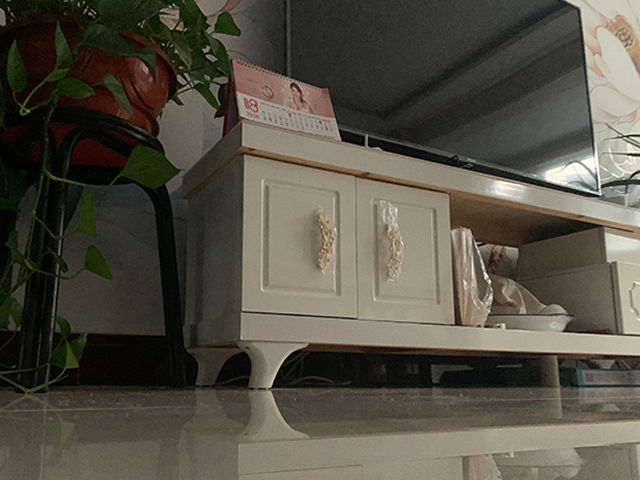cabinet: (178, 119, 640, 391)
stool: (11, 102, 188, 392)
